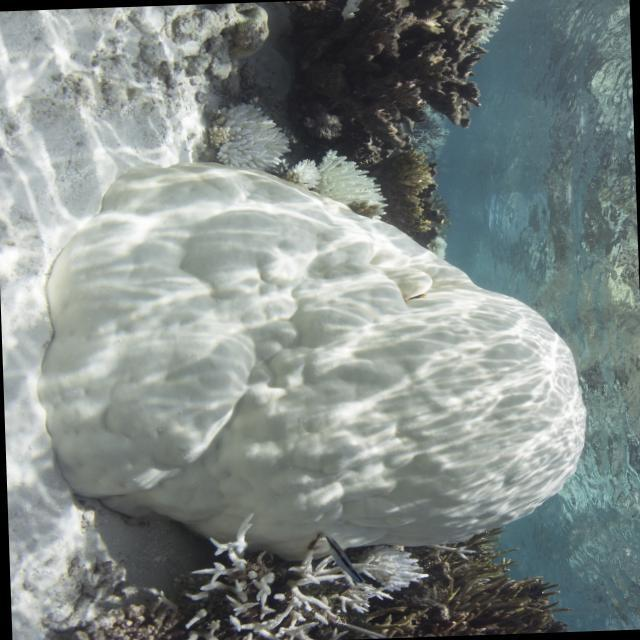Bleached Coral: (89, 148, 581, 574), (190, 526, 418, 640), (214, 97, 285, 185), (296, 153, 381, 220)
Dead Coral: (294, 0, 501, 149)
